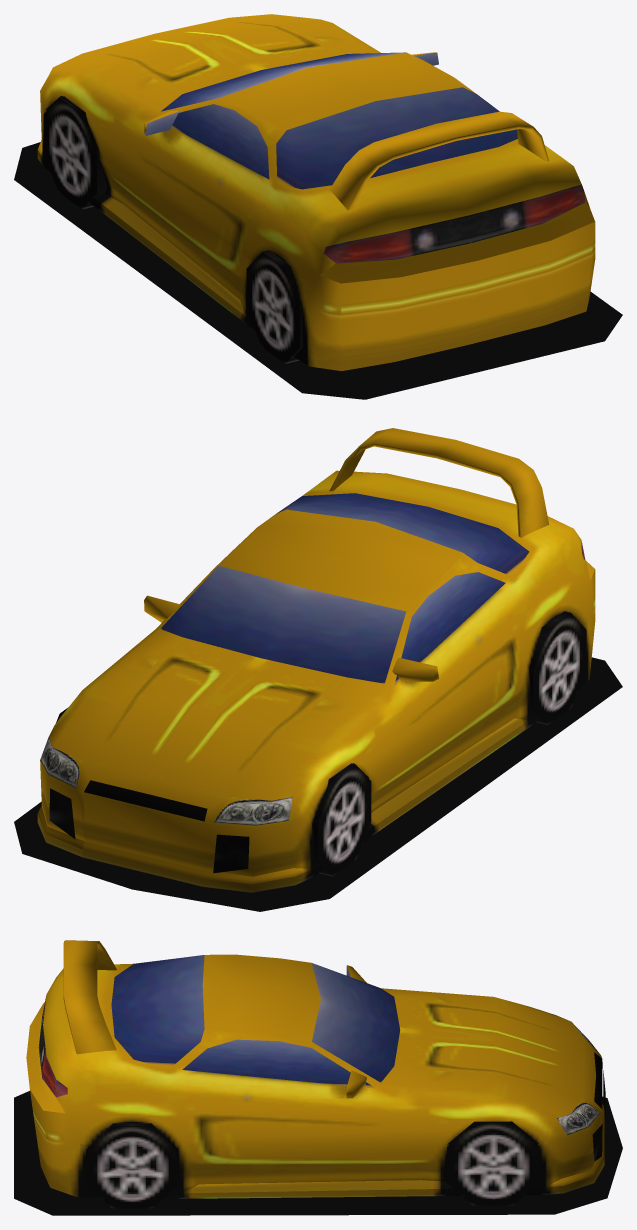
Rendered from iconcopy.ico.obj.
The picture shows the model from 3 angles, top to bottom: view 1: azimuth 30°, elevation 25°; view 2: azimuth 150°, elevation 25°; view 3: azimuth 270°, elevation 25°; orthographic projection. The views are drawn at different scales.
Bounding box in the file's own units: 2.41 × 1.54 × 4.59.
Materials: 1 (1 with a texture image).
